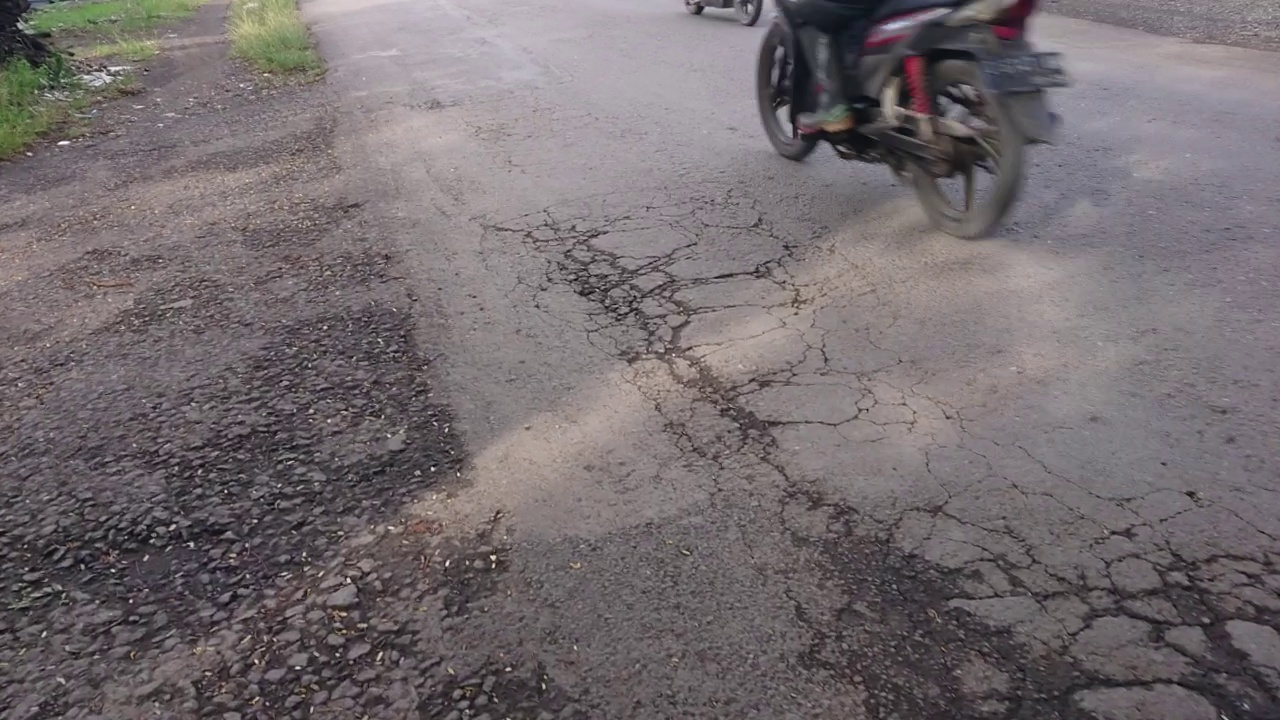Retak: (799, 504, 1280, 720), (527, 237, 845, 490)
